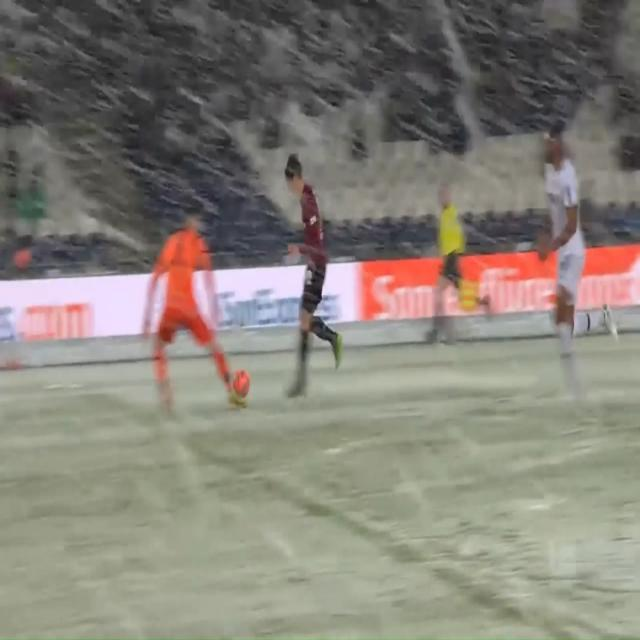ball: (232, 358, 261, 402)
goalkeeper: (123, 179, 232, 445)
player: (533, 114, 624, 425), (265, 147, 352, 409)
referee: (414, 177, 491, 366)
